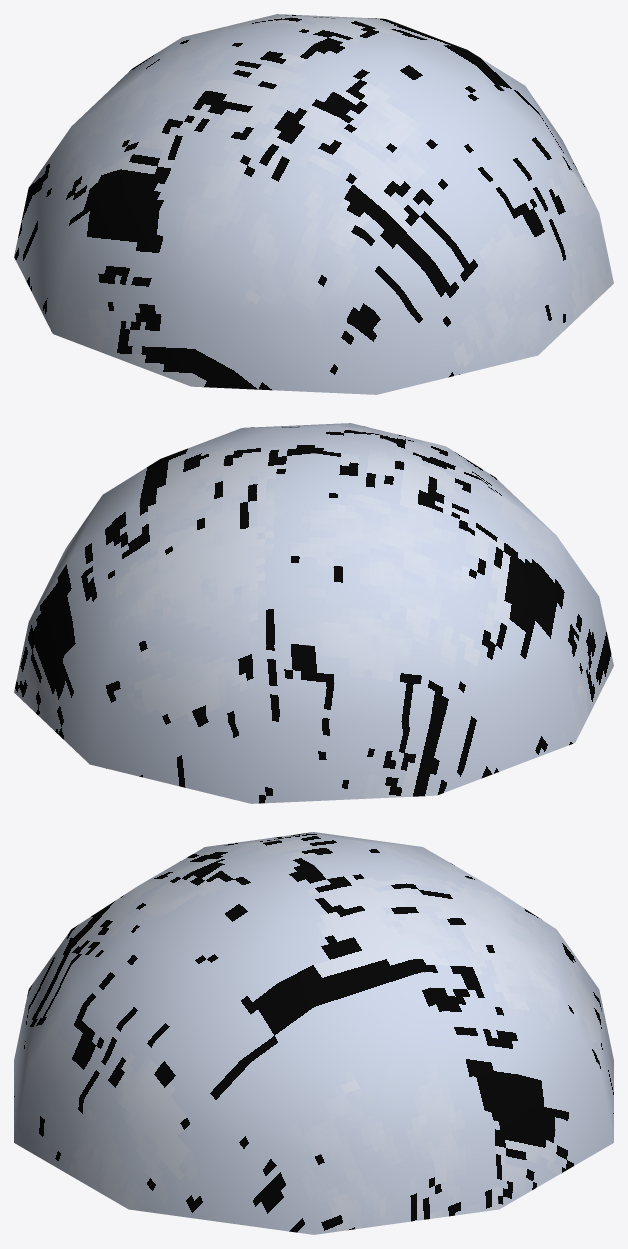
The model's file is Clouds.fbx.
The picture shows the model from 3 angles, top to bottom: view 1: azimuth 30°, elevation 25°; view 2: azimuth 150°, elevation 25°; view 3: azimuth 270°, elevation 25°; orthographic projection. The views are drawn at different scales.
Parts seen in each view (by area): view 1: pSphere1; view 2: pSphere1; view 3: pSphere1.
Part boxes in pixels (x1,y1,x2,y2): pSphere1: (14,14,613,394); pSphere1: (14,423,613,803); pSphere1: (14,832,613,1234).
Bounding box in the file's own units: 55.52 × 22.95 × 52.8.
1 material, 1 textured.
